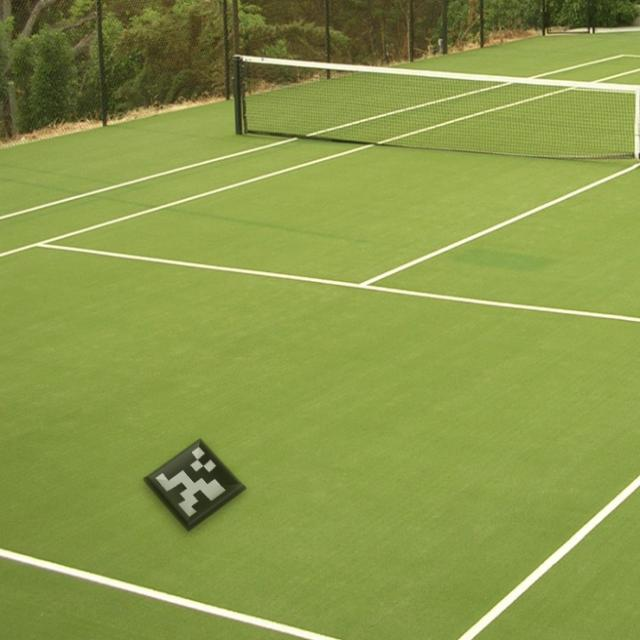marker: (142, 428, 254, 539)
